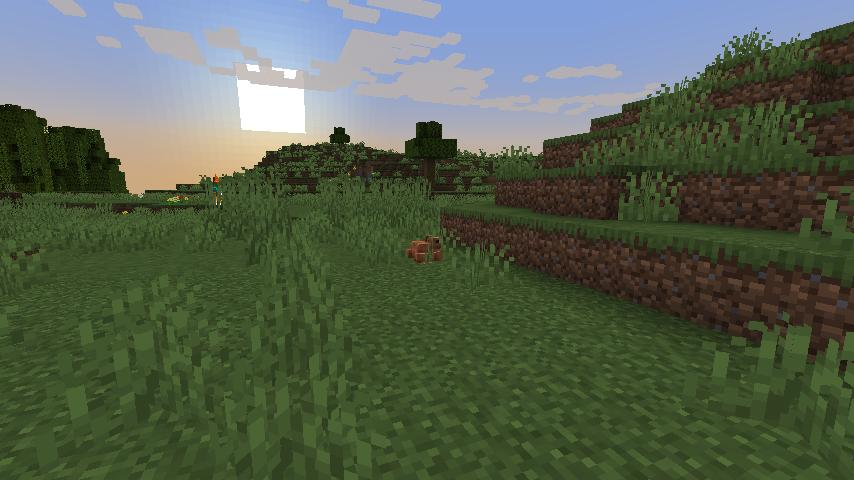frog: (404, 229, 446, 269)
zombie: (212, 177, 226, 207)
